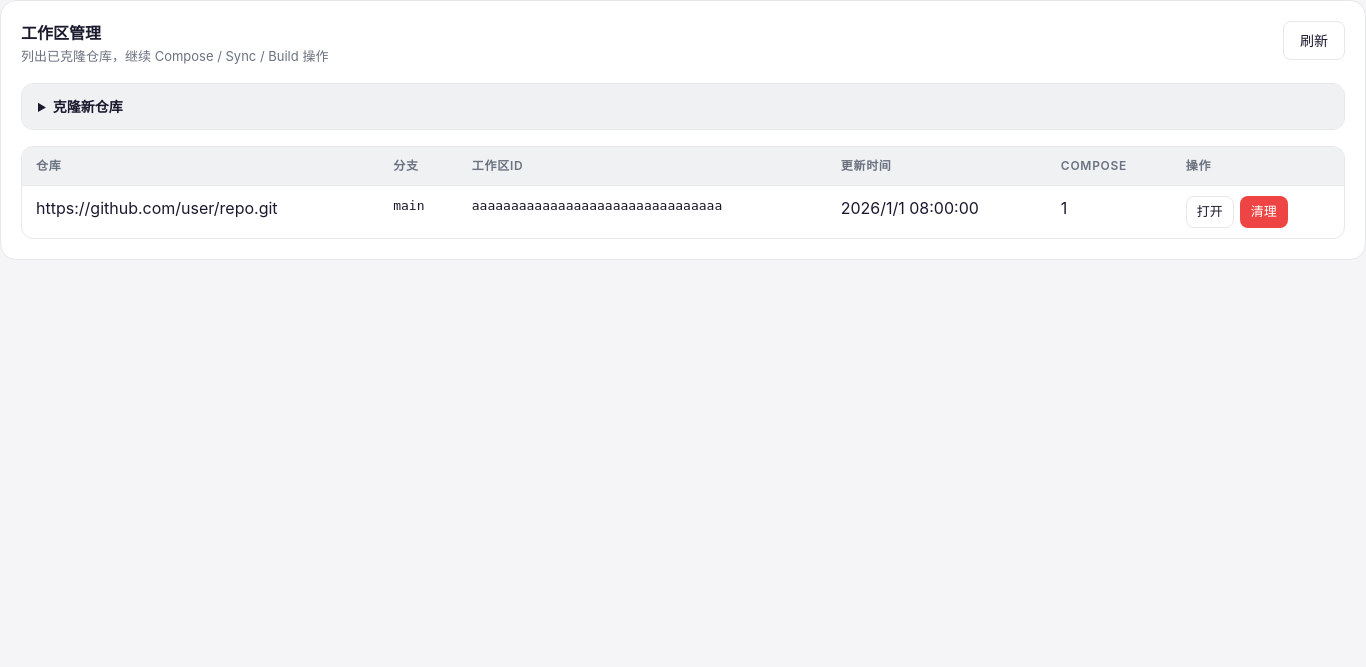
WorkspacePanel › lists workspaces and opens selected workspace
The width and height of the screenshot is (1366, 667).
Expected: the text "https://github.com/user/repo.git" is shown, x1=22 y1=185 x2=379 y2=238
Click the button "打开" at (1210,212), box x1=1186 y1=196 x2=1234 y2=228
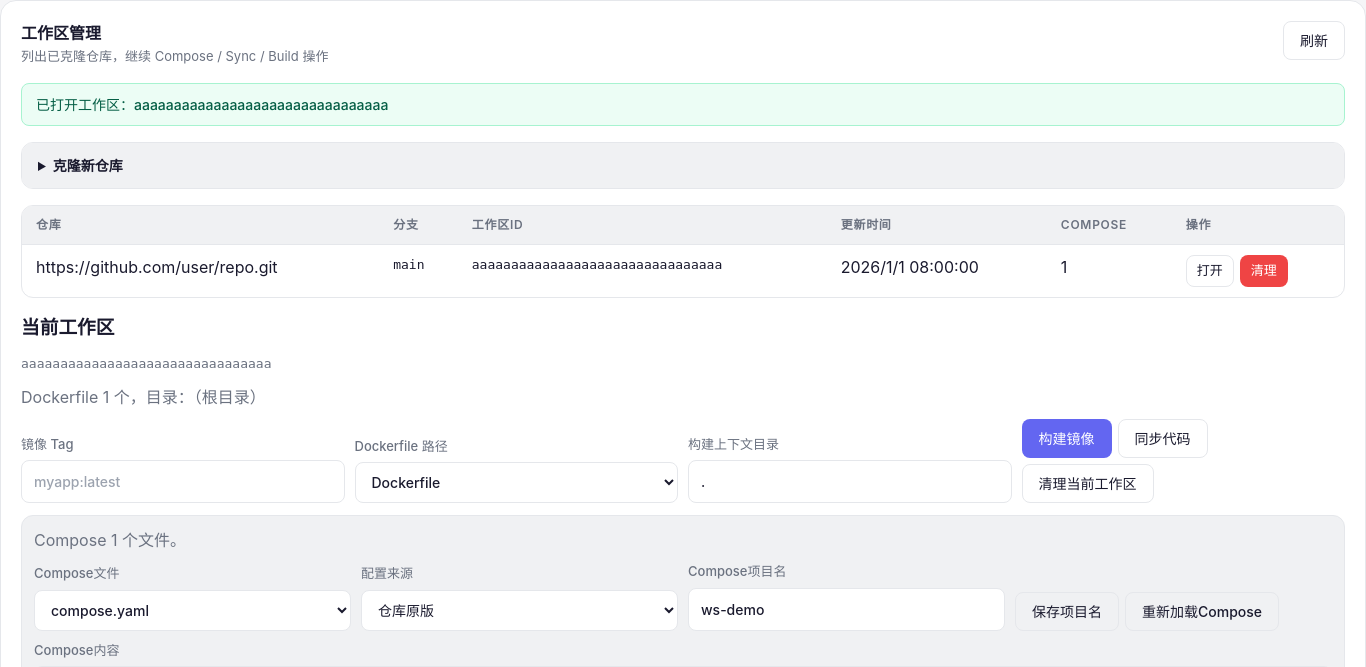
Result: the heading "当前工作区" is shown at x1=21 y1=316 x2=114 y2=338
